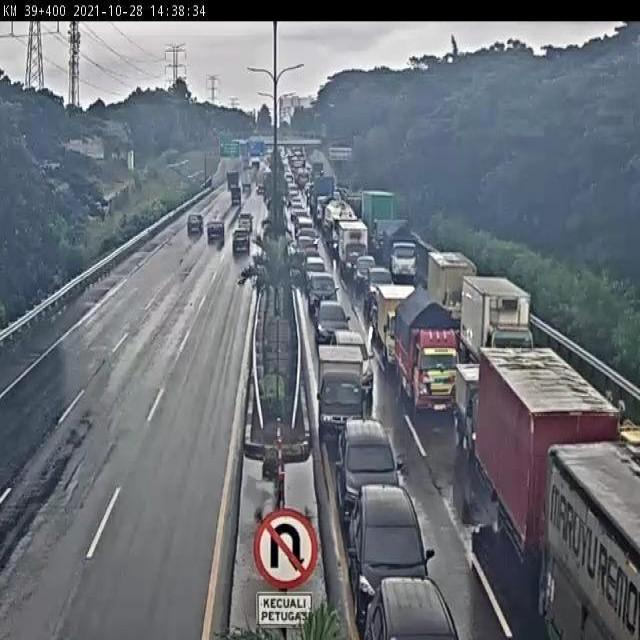big truck: (475, 337, 625, 572), (539, 440, 640, 640)
car: (354, 487, 433, 576), (367, 568, 461, 640), (337, 415, 406, 501), (334, 332, 371, 375), (366, 266, 394, 318), (309, 273, 346, 308), (320, 296, 349, 336), (174, 217, 196, 251), (225, 240, 250, 268), (307, 255, 333, 281), (229, 219, 251, 244), (196, 230, 213, 258)
small truck: (396, 284, 462, 413), (458, 268, 527, 368), (453, 364, 500, 447), (317, 349, 358, 415), (380, 288, 413, 361), (427, 248, 472, 299), (338, 216, 367, 269)
